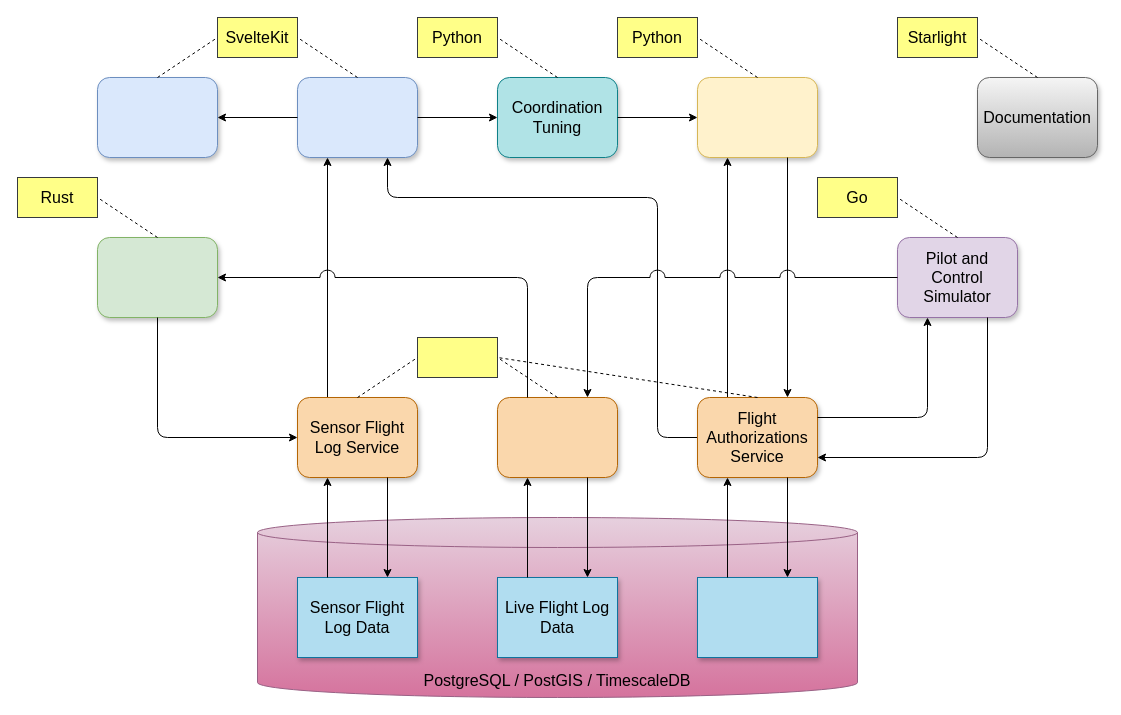
The diagram is 1121 pixels wide and 715 high, and some of its shapes have lost their labels. Each missing label, with the centre of its shape:
"Authorization Auto Coordination" goes at (758,118).
"Flight Area Dashboard Web Client" goes at (158,118).
"Flight Area Dashboard Web Server" goes at (358,118).
"Flight Authorizations Data" goes at (758,618).
"Hono" goes at (457,357).
"Live Flight Log Service" goes at (558,438).
"Sensor Array Simulator" goes at (158,278).
